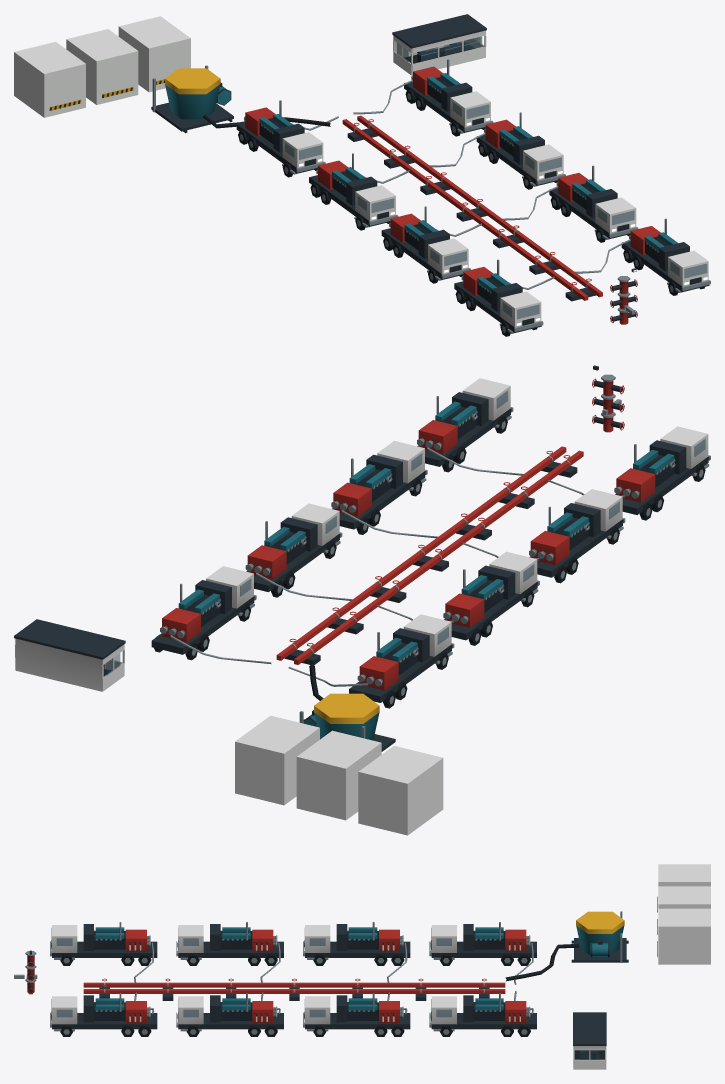
Rendered from frac_spread_lodl.glb.
3 views of the same model, one above another, from view 1: azimuth 30°, elevation 25°; view 2: azimuth 150°, elevation 25°; view 3: azimuth 270°, elevation 25° (orthographic). The views are drawn at different scales.
Visible parts, largest first — view 1: sand_storage_surface_white, missile_surface_red, control_van_surface_dark, control_van_surface_white, blender_surface_blue, missile_surface_dark, blender_surface_yellow, pump_truck_7_surface_white, pump_truck_1_surface_white, pump_truck_4_surface_white, pump_truck_8_surface_white, pump_truck_3_surface_white (+14 smaller); view 2: sand_storage_surface_white, triplex_pump_surface_red (×8), missile_surface_red, control_van_surface_white, control_van_surface_dark, missile_surface_dark, pump_truck_5_surface_dark, pump_truck_1_surface_dark, blender_surface_yellow, high_pressure_lines_surface_steel, pump_truck_4_surface_dark, pump_truck_2_surface_dark (+13 smaller); view 3: sand_storage_surface_white, missile_surface_red, triplex_pump_surface_red (×8), engine_surface_dark (×8), engine_surface_blue (×6), control_van_surface_dark, pump_truck_6_surface_dark, pump_truck_7_surface_dark, pump_truck_8_surface_dark, pump_truck_5_surface_dark, pump_truck_2_surface_dark, pump_truck_3_surface_dark (+17 smaller).
Part boxes in pixels (box(x1,y1,x2,y2)): sand_storage_surface_white: box(14, 16, 190, 117); missile_surface_red: box(342, 115, 602, 300); control_van_surface_dark: box(392, 14, 486, 63); control_van_surface_white: box(393, 30, 486, 75); blender_surface_blue: box(165, 84, 230, 119); missile_surface_dark: box(347, 128, 595, 301); blender_surface_yellow: box(165, 68, 220, 94); pump_truck_7_surface_white: box(595, 197, 636, 233); pump_truck_1_surface_white: box(282, 132, 323, 168); pump_truck_4_surface_white: box(500, 291, 541, 327); pump_truck_8_surface_white: box(668, 250, 708, 286); pump_truck_3_surface_white: box(428, 238, 468, 274); sand_storage_surface_white: box(235, 715, 443, 835); triplex_pump_surface_red (×8): box(162, 420, 655, 690); missile_surface_red: box(276, 446, 583, 664); control_van_surface_white: box(15, 638, 124, 691); control_van_surface_dark: box(14, 619, 125, 676); missile_surface_dark: box(284, 461, 577, 664); pump_truck_5_surface_dark: box(151, 580, 254, 654); pump_truck_1_surface_dark: box(349, 628, 451, 702); blender_surface_yellow: box(314, 693, 379, 723); high_pressure_lines_surface_steel: box(170, 447, 624, 686); pump_truck_4_surface_dark: box(615, 440, 708, 514); pump_truck_2_surface_dark: box(444, 565, 537, 640); sand_storage_surface_white: box(658, 864, 710, 964); missile_surface_red: box(83, 978, 505, 993); triplex_pump_surface_red (×8): box(125, 929, 526, 1023); engine_surface_dark (×8): box(94, 931, 505, 1020); engine_surface_blue (×6): box(95, 927, 503, 1010); control_van_surface_dark: box(573, 1012, 606, 1059); pump_truck_6_surface_dark: box(304, 995, 410, 1029); pump_truck_7_surface_dark: box(178, 995, 283, 1029); pump_truck_8_surface_dark: box(51, 995, 157, 1029); pump_truck_5_surface_dark: box(431, 995, 536, 1029); pump_truck_2_surface_dark: box(304, 924, 410, 957); pump_truck_3_surface_dark: box(178, 924, 283, 957).
Bounding box in the file's own units: 37.6 × 5.24 × 66.1.
